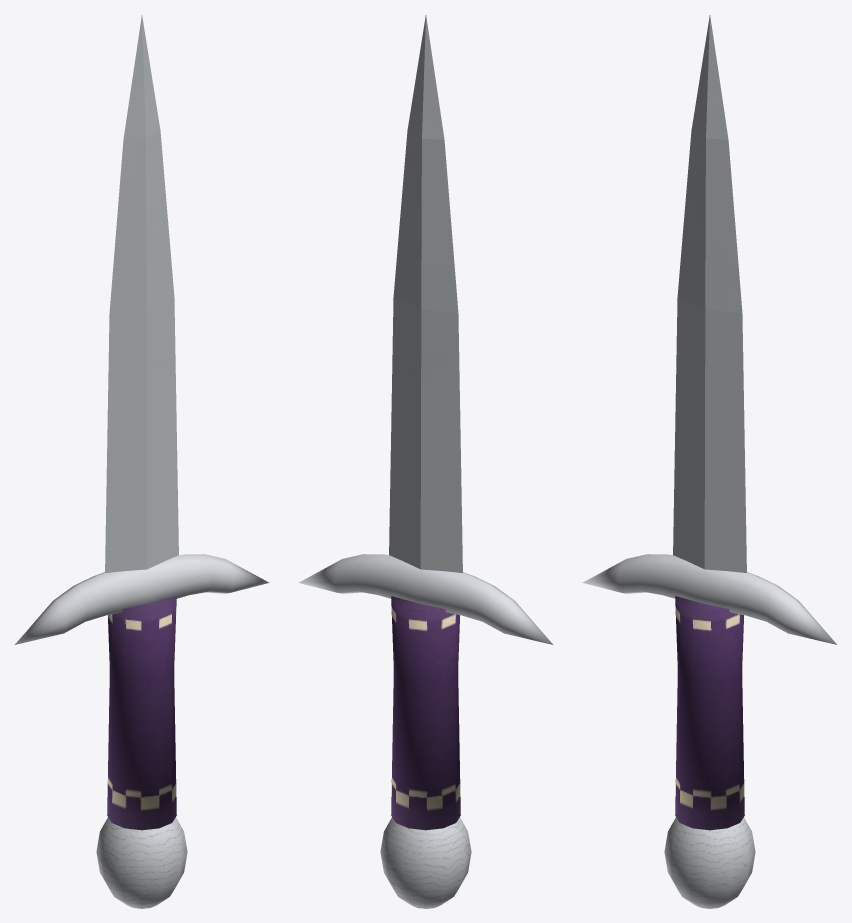
Rendered from dolch.glb.
The picture shows the model from 3 angles, left to right: view 1: azimuth 30°, elevation 25°; view 2: azimuth 150°, elevation 25°; view 3: azimuth 330°, elevation 25°; orthographic projection.
Visible parts, largest first — view 1: dolch; view 2: dolch; view 3: dolch.
Boxes of the visible parts, x1,y1,x2,y2 form: dolch: (15,15,269,908); dolch: (298,15,552,908); dolch: (582,15,836,908).
Size of the model in its own units: 0.11 by 0.3671 by 0.034.
3 materials, 3 textured.
